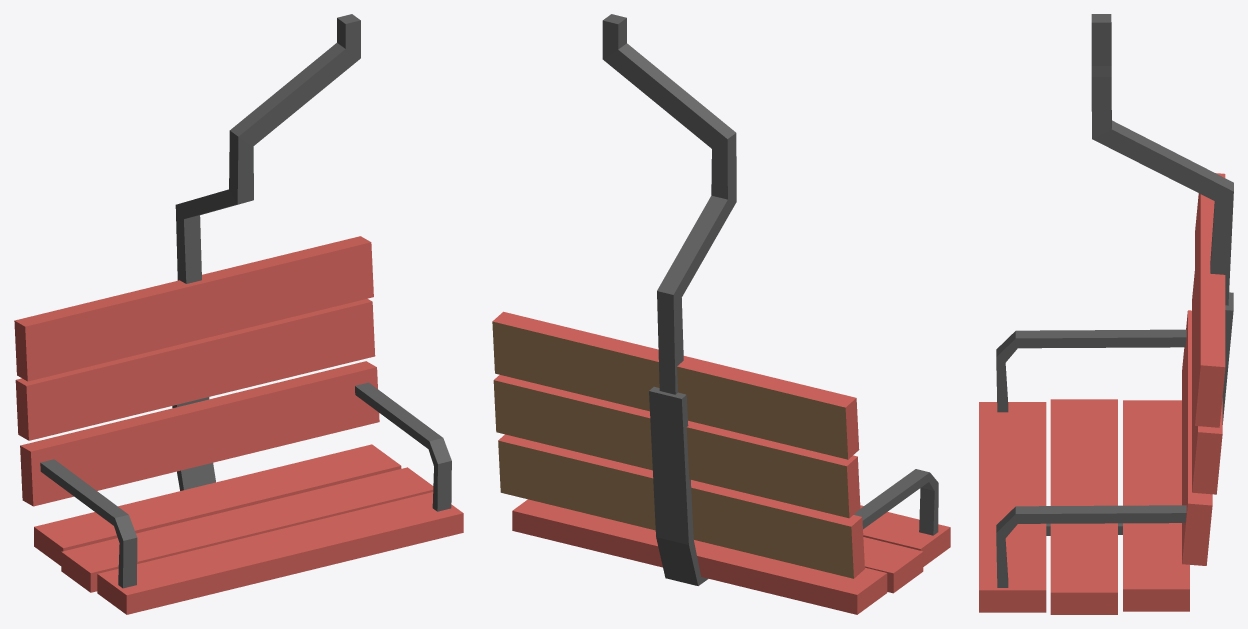
File: ice_skilift_chair.fbx
The picture shows the model from 3 angles, left to right: view 1: azimuth 30°, elevation 25°; view 2: azimuth 150°, elevation 25°; view 3: azimuth 270°, elevation 25°; orthographic projection. The views are drawn at different scales.
Visible parts, largest first — view 1: ice_skilift_chair; view 2: ice_skilift_chair; view 3: ice_skilift_chair.
Boxes of the visible parts, bbox=[...] form: ice_skilift_chair: bbox=[14, 14, 463, 614]; ice_skilift_chair: bbox=[492, 14, 950, 614]; ice_skilift_chair: bbox=[979, 14, 1233, 614].
Bounding box in the file's own units: 2.48 × 3.4 × 1.38.
1 material, 1 textured.
